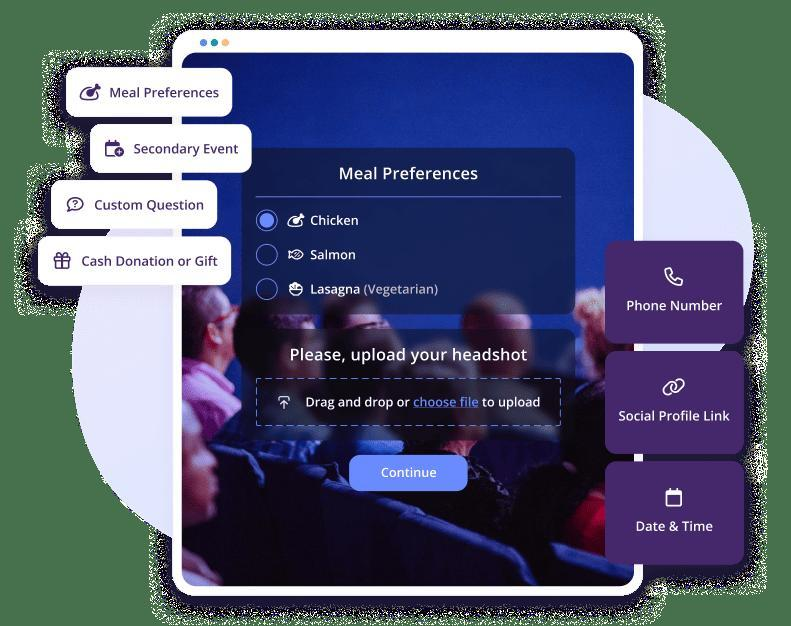button: (347, 453, 476, 495)
icon: (662, 486, 690, 514), (665, 265, 690, 293), (79, 82, 105, 106), (659, 376, 686, 399), (66, 195, 92, 218), (52, 249, 74, 276), (104, 140, 127, 165), (288, 279, 306, 303), (287, 246, 308, 266), (275, 395, 295, 413), (289, 212, 307, 231)
label: (333, 166, 488, 183), (311, 281, 442, 300), (311, 214, 363, 234), (309, 249, 360, 264)
radio: (254, 277, 283, 304), (256, 209, 280, 234), (256, 244, 281, 268)
